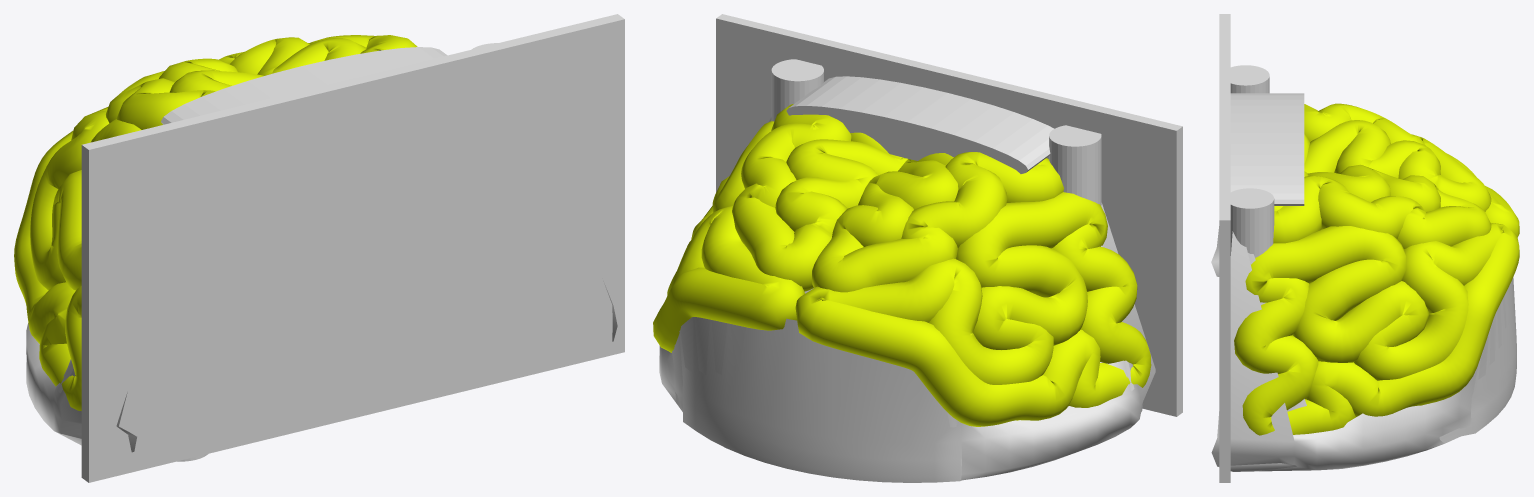
The model's file is Parietal.fbx.
3 renders of one model, left to right at view 1: azimuth 30°, elevation 25°; view 2: azimuth 150°, elevation 25°; view 3: azimuth 270°, elevation 25°, orthographic. The views are drawn at different scales.
Parts seen in each view (by area): view 1: Cube.001, L Parietal, Cylinder.003, R Parietal, Cylinder; view 2: L Parietal, Cylinder, Cube.001, R Parietal, Cylinder.003, Cylinder.001, Cylinder.002; view 3: R Parietal, Cylinder, L Parietal, Cylinder.003, Cube.001, Cylinder.002, Cylinder.001.
Boxes of the visible parts, <box> form: Cube.001: <box>81,14,624,482</box>; L Parietal: <box>14,58,263,410</box>; Cylinder.003: <box>161,47,447,124</box>; R Parietal: <box>219,35,417,75</box>; Cylinder: <box>26,281,617,452</box>; L Parietal: <box>795,152,1151,426</box>; Cylinder: <box>659,117,1155,482</box>; Cube.001: <box>716,14,1182,416</box>; R Parietal: <box>653,104,907,352</box>; Cylinder.003: <box>786,76,1054,173</box>; Cylinder.001: <box>1049,125,1101,205</box>; Cylinder.002: <box>771,59,823,293</box>; R Parietal: <box>1234,164,1519,435</box>; Cylinder: <box>1211,226,1516,471</box>; L Parietal: <box>1304,103,1519,236</box>; Cylinder.003: <box>1230,93,1304,205</box>; Cube.001: <box>1219,14,1230,482</box>; Cylinder.002: <box>1230,188,1274,257</box>; Cylinder.001: <box>1230,65,1269,93</box>.
Size of the model in its own units: 47682 by 28682 by 30140.
